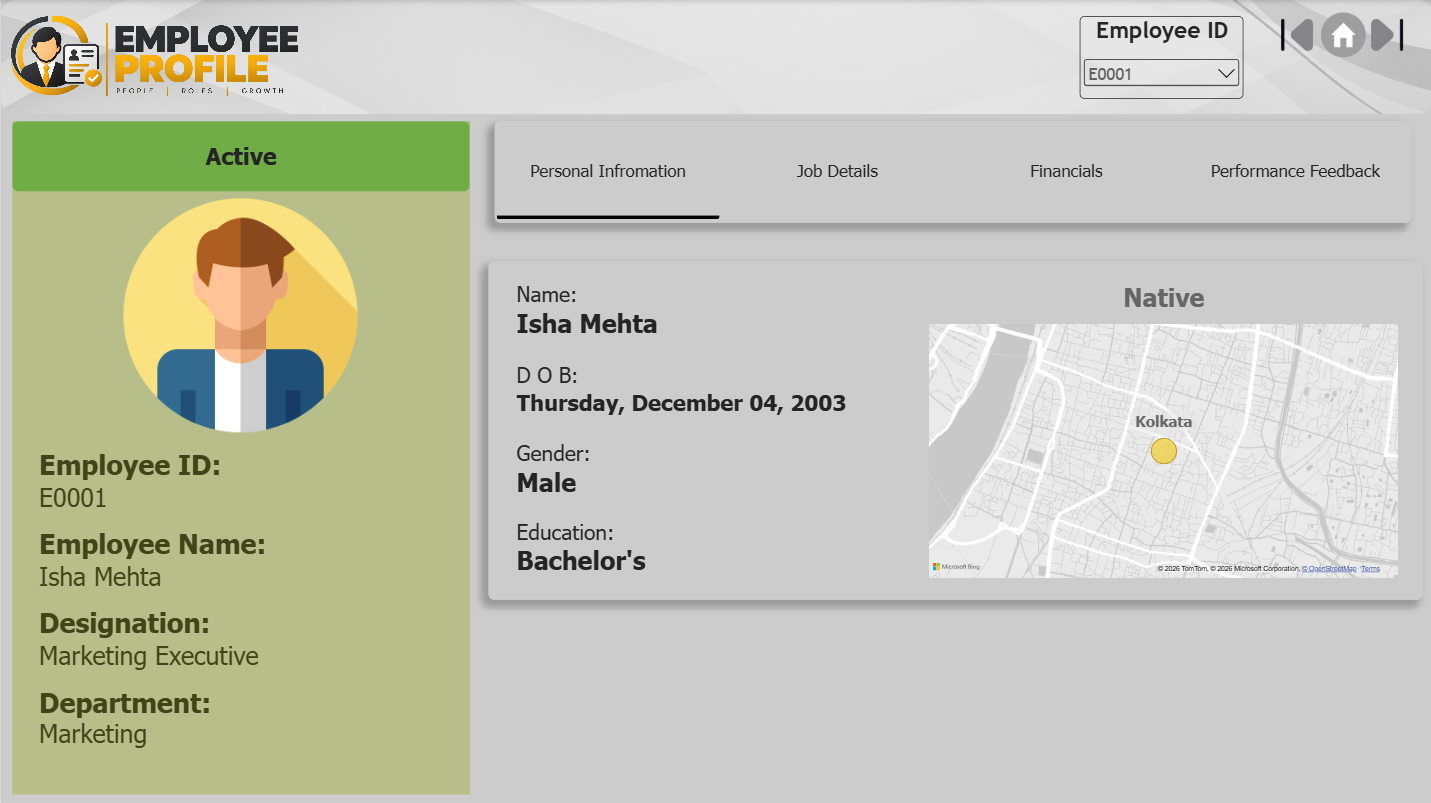

What the dashboard file says about the page in this screenshot:
{"tool":"powerbi","page":{"name":"Employee Profile","canvas":[1920,1080],"ordinal":3},"visuals":[{"type":"shape","box":[15.8,162.4,613.5,902.3],"z":0},{"type":"image","box":[0,0,1919.5,152.4],"z":1000},{"type":"image","box":[1707,16,60,60],"z":2000},{"type":"image","box":[1768.4,17.6,60,60],"z":3000},{"type":"image","box":[1827.4,16.7,60,60],"z":4000},{"type":"slicer","title":"Employee ID","fields":{"Values":["hr_analytics employees.Employee_ID"]},"box":[1445.5,22,219.4,110.5],"z":5000},{"type":"cardVisual","fields":{"Data":["Min(hr_analytics employees.Employment_Status)"]},"box":[15.8,162.4,613.5,94.7],"z":6000},{"type":"cardVisual","fields":{"Data":["Min(hr_analytics employees.Employee_ID)","Min(hr_analytics employees.Employee_Name)","Min(hr_analytics employees.hr_analytics jobs.Job_Title)","Min(hr_analytics employees.Department Name)"]},"box":[15.8,591,541.4,426.3],"z":7000},{"type":"shape","box":[653,349.8,1252.1,454],"z":8000},{"type":"image","box":[164.7,254.9,313.5,336.1],"z":11000},{"type":"bookmarkNavigator","box":[661.6,162.5,1227.7,135.7],"z":13000},{"type":"shape","box":[988.8,368.5,573.5,108.2],"z":20000},{"type":"textbox","box":[1022.9,393.7,437.2,54.1],"z":21000},{"type":"cardVisual","fields":{"Data":["Max(hr_analytics performance.Rating)"]},"box":[1459.8,393.7,95.6,55.2],"z":22000},{"type":"cardVisual","fields":{"Data":["Min(hr_analytics performance.Performance_Level)"]},"box":[765.5,484.1,445.8,259.7],"z":23000},{"type":"cardVisual","fields":{"Data":["Min(hr_analytics performance.Job Involvement)"]},"box":[1333.3,484.1,445,259.7],"z":24000},{"type":"image","box":[0,0,408.1,152],"z":25000}]}

Visuals, with their boxes in screenshot pixels (x1, y1, x2, y2), scaled from the page's 1920x1080 canvas onto the 1431x803 screenshot:
shape: x1=12, y1=121, x2=469, y2=792
image: x1=0, y1=0, x2=1430, y2=113
image: x1=1272, y1=12, x2=1317, y2=57
image: x1=1318, y1=13, x2=1363, y2=58
image: x1=1362, y1=12, x2=1407, y2=57
"Employee ID" slicer: x1=1077, y1=16, x2=1241, y2=99
cardVisual - Min(hr_analytics employees.Employment_Status): x1=12, y1=121, x2=469, y2=191
cardVisual - Min(hr_analytics employees.Employee_ID) x Min(hr_analytics employees.Employee_Name): x1=12, y1=439, x2=415, y2=756
shape: x1=487, y1=260, x2=1420, y2=598
image: x1=123, y1=190, x2=356, y2=439
bookmarkNavigator: x1=493, y1=121, x2=1408, y2=222
shape: x1=737, y1=274, x2=1164, y2=354
textbox: x1=762, y1=293, x2=1088, y2=333
cardVisual - Max(hr_analytics performance.Rating): x1=1088, y1=293, x2=1159, y2=334
cardVisual - Min(hr_analytics performance.Performance_Level): x1=571, y1=360, x2=903, y2=553
cardVisual - Min(hr_analytics performance.Job Involvement): x1=994, y1=360, x2=1325, y2=553
image: x1=0, y1=0, x2=304, y2=113
